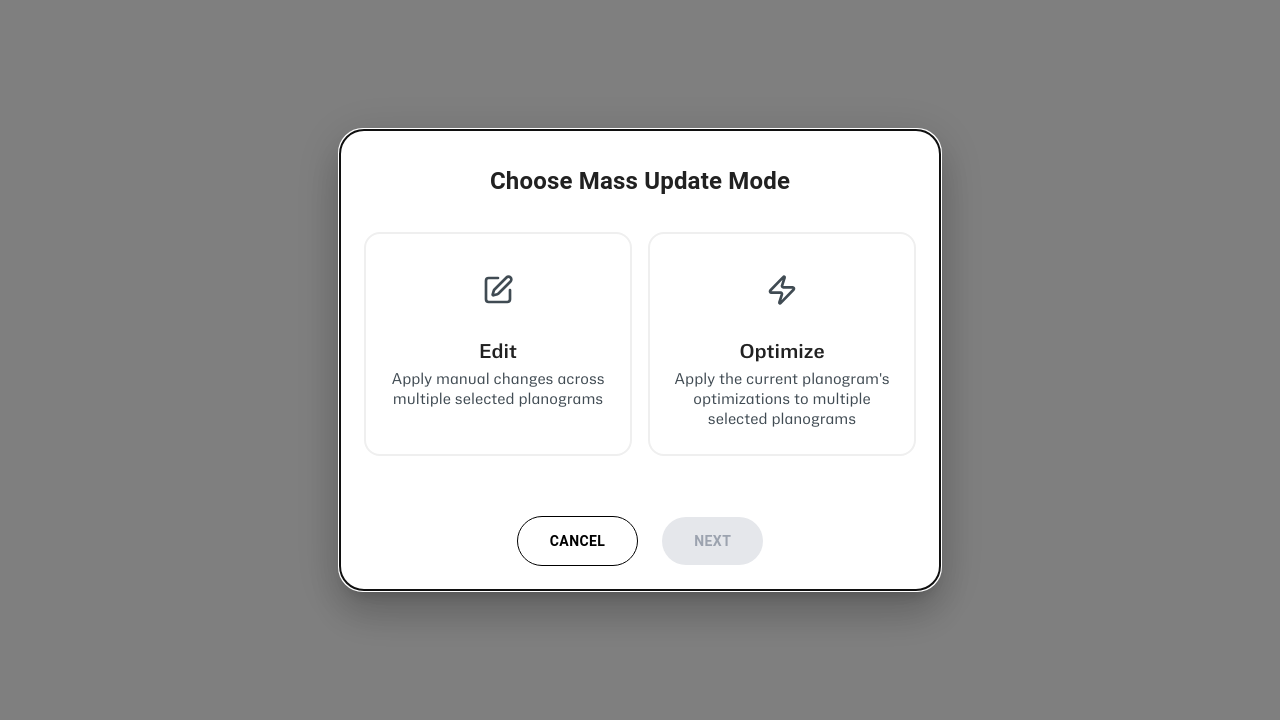
Test case: MassUpdateModeModal › mode selection › selecting Edit option sets edit mode
Click the button "Edit": click(498, 344) x1=364 y1=232 x2=632 y2=456
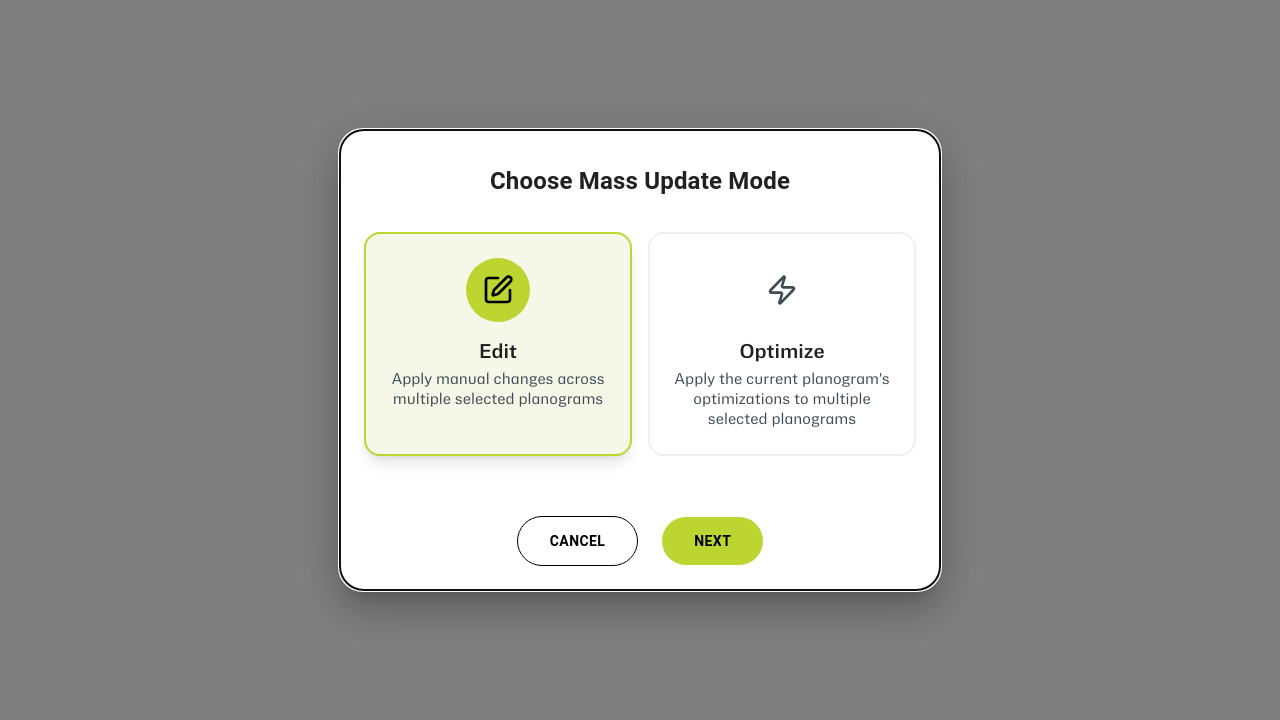
Check: the button "Next" is enabled, box x1=662 y1=517 x2=763 y2=565
